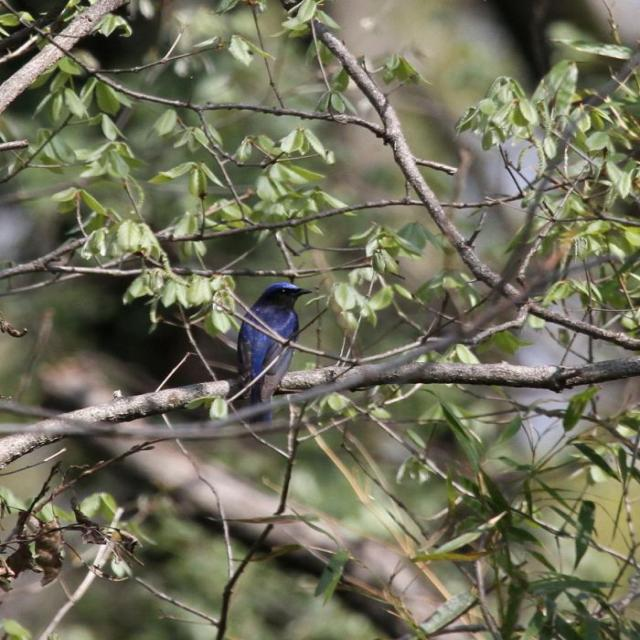bird: (213, 280, 331, 429)
